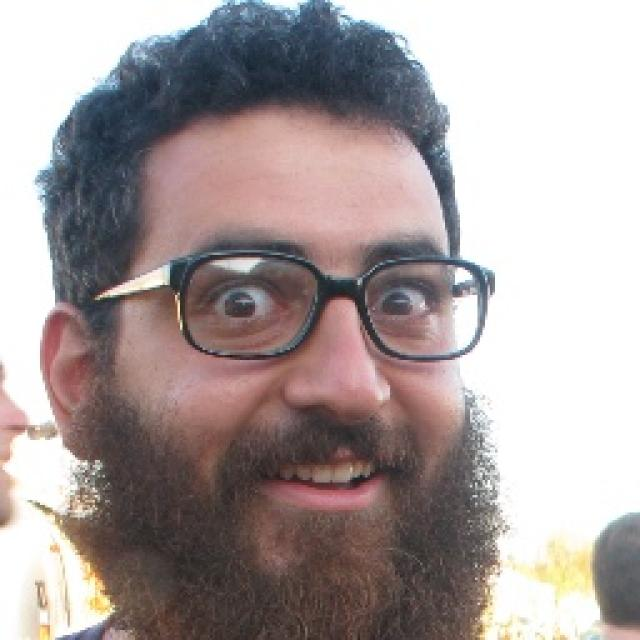earlobe: (40, 304, 106, 461)
